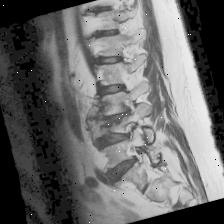disc: (95, 72, 138, 104), (88, 18, 132, 48), (92, 43, 133, 73)
hdisc: (98, 149, 151, 188), (92, 123, 139, 156)
